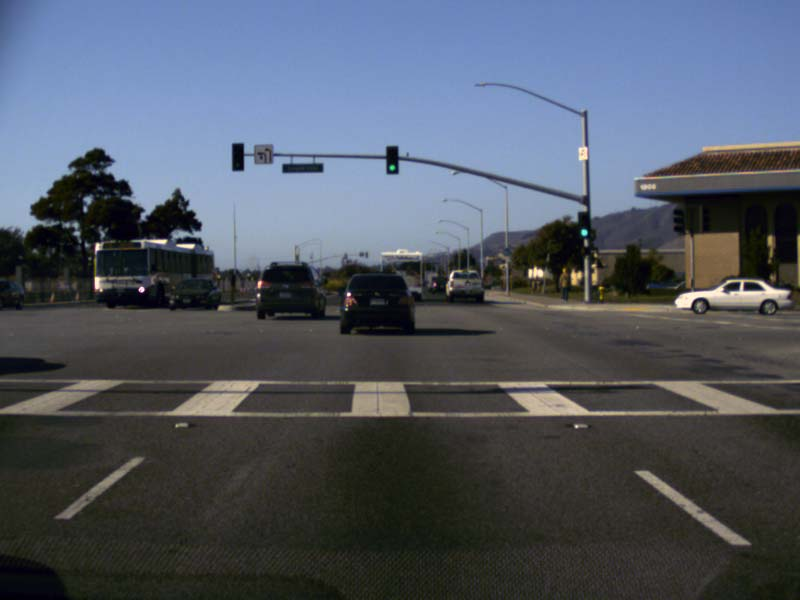Green: (385, 146, 397, 173), (232, 144, 243, 170), (578, 212, 589, 237)
